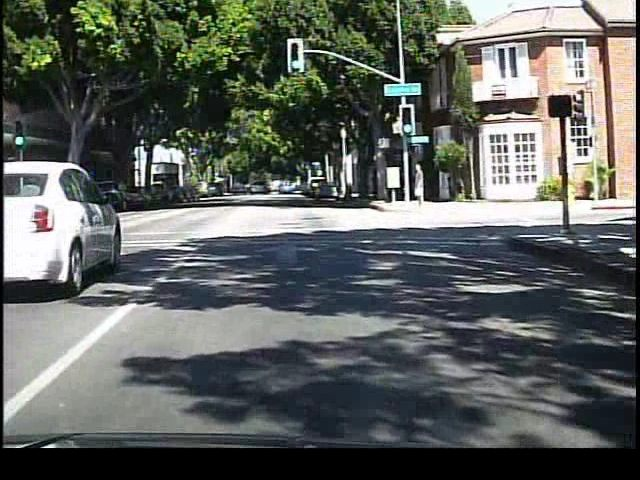person: (411, 158, 431, 211)
